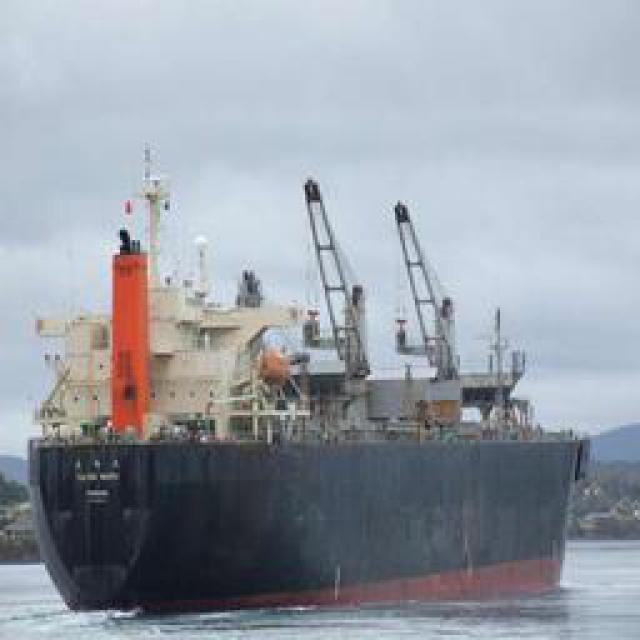Ship: (21, 157, 564, 575)
